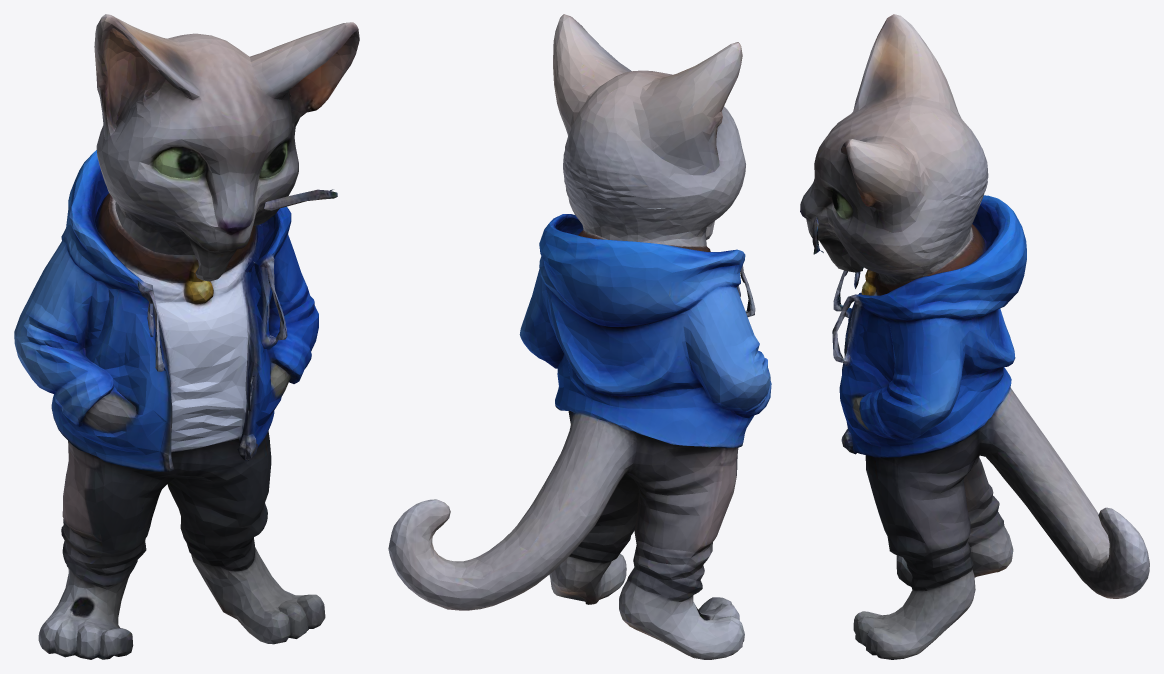
The model's file is pureum.glb.
3 renders of one model, left to right at view 1: azimuth 30°, elevation 25°; view 2: azimuth 150°, elevation 25°; view 3: azimuth 270°, elevation 25°, orthographic. The views are drawn at different scales.
Visible parts, largest first — view 1: attic_pureum; view 2: attic_pureum; view 3: attic_pureum.
Boxes of the visible parts, bbox=[...] form: attic_pureum: bbox=[14, 14, 359, 659]; attic_pureum: bbox=[388, 14, 771, 659]; attic_pureum: bbox=[800, 14, 1149, 659].
Bounding box in the file's own units: 0.4929 × 1 × 0.5649.
1 material, 1 textured.
